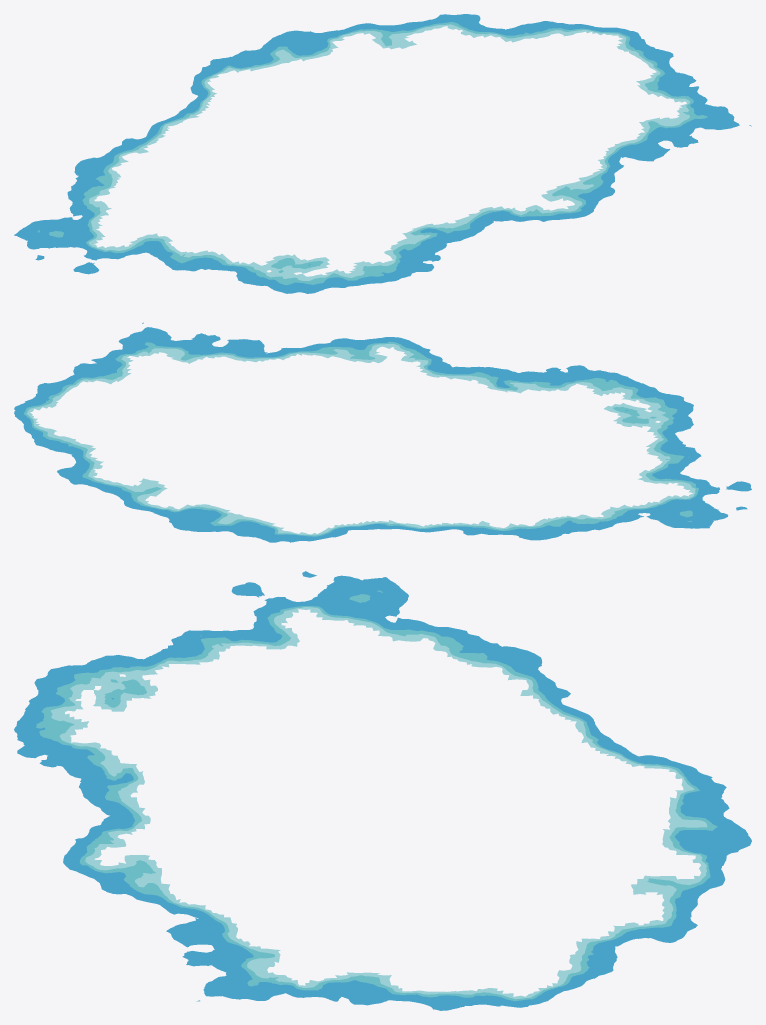
The model's file is Isl-bot6-Water.fbx.
3 renders of one model, top to bottom at view 1: azimuth 30°, elevation 25°; view 2: azimuth 150°, elevation 25°; view 3: azimuth 270°, elevation 25°, orthographic. The views are drawn at different scales.
Visible parts, largest first — view 1: Isl-bot6-Water; view 2: Isl-bot6-Water; view 3: Isl-bot6-Water.
Boxes of the visible parts, x1,y1,x2,y2 form: Isl-bot6-Water: [14, 14, 751, 293]; Isl-bot6-Water: [14, 322, 751, 542]; Isl-bot6-Water: [14, 571, 751, 1010].
Bounding box in the file's own units: 168 × 0 × 119.
